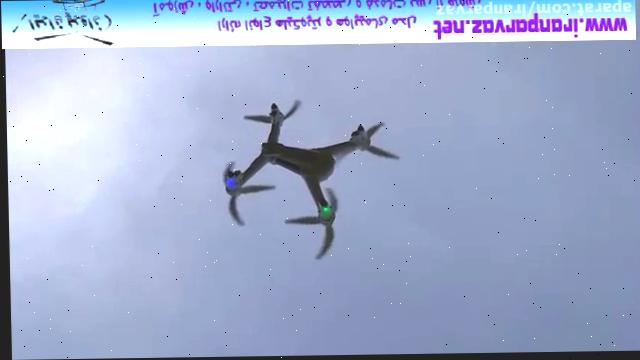drone: (214, 96, 404, 267)
